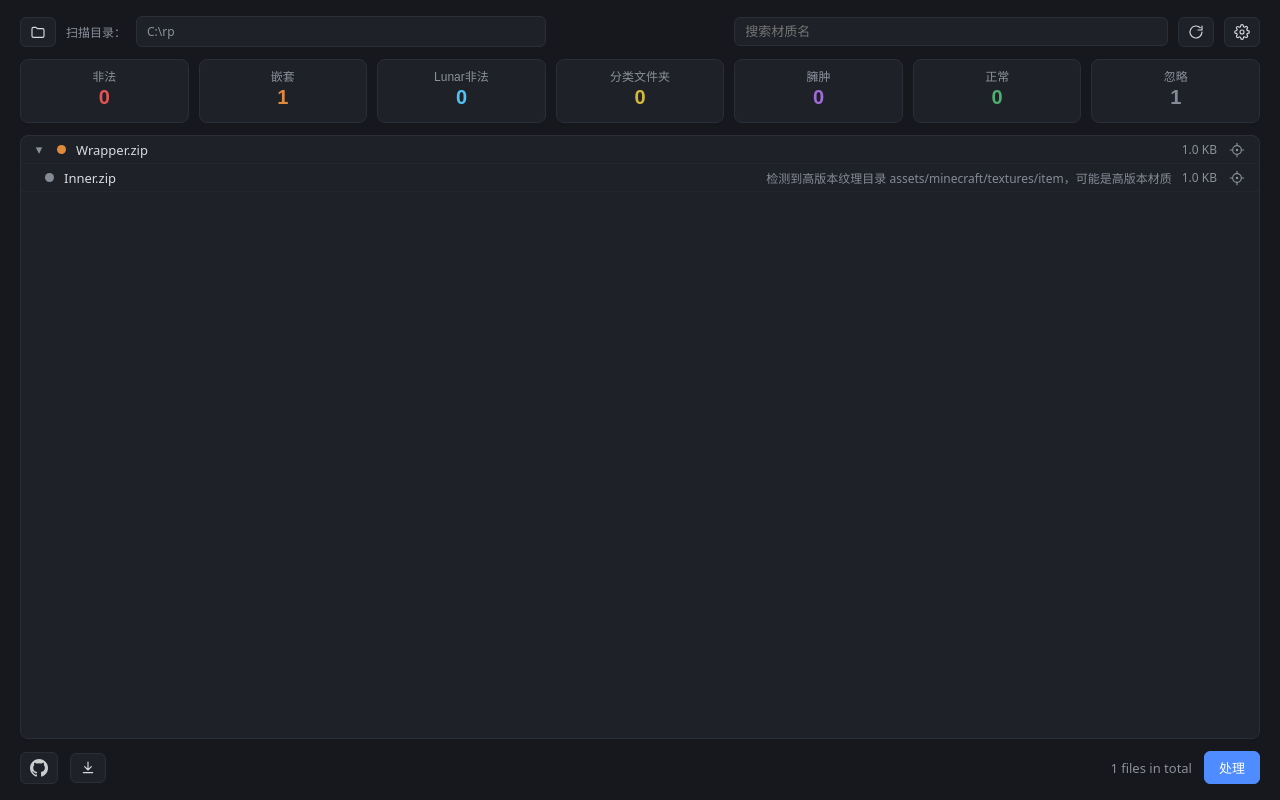
Test: an ignored leaf keeps the shell tree expanded, not merged
Expected: the text "Wrapper.zip" is shown, [76,140,148,158]
Expected: the text "Inner.zip" is shown, [64,168,116,186]
Note: Collapsing hides the ignored leaf.
Click the button named "折叠 Wrapper.zip" at (39, 150), box [31,142,47,157]
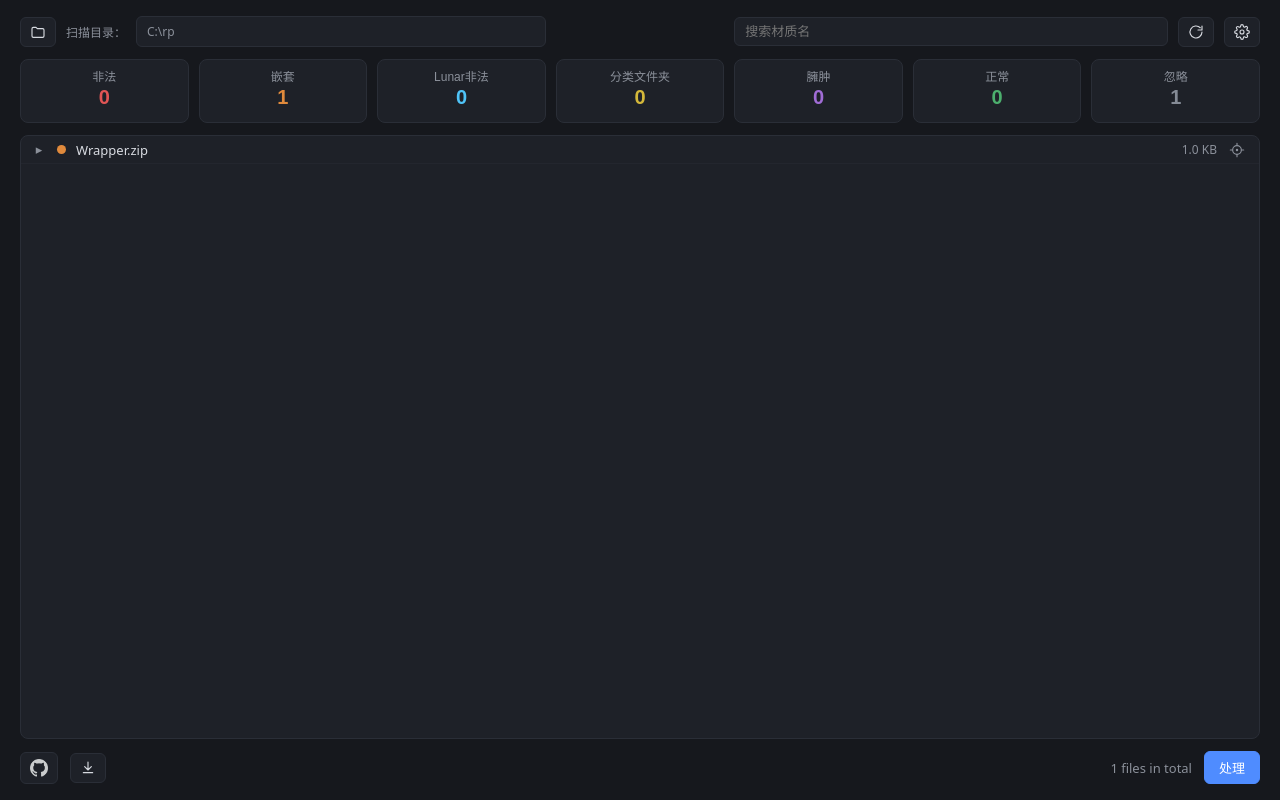
Result: the text "Inner.zip" is gone
